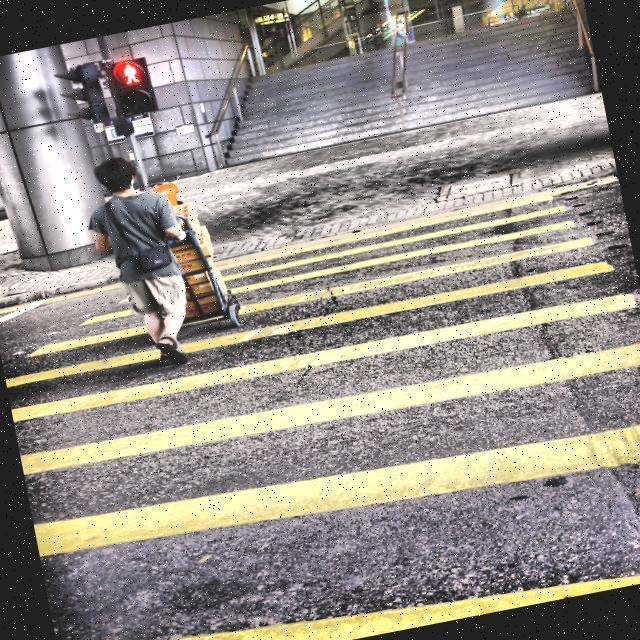red_light: (120, 61, 142, 85)
